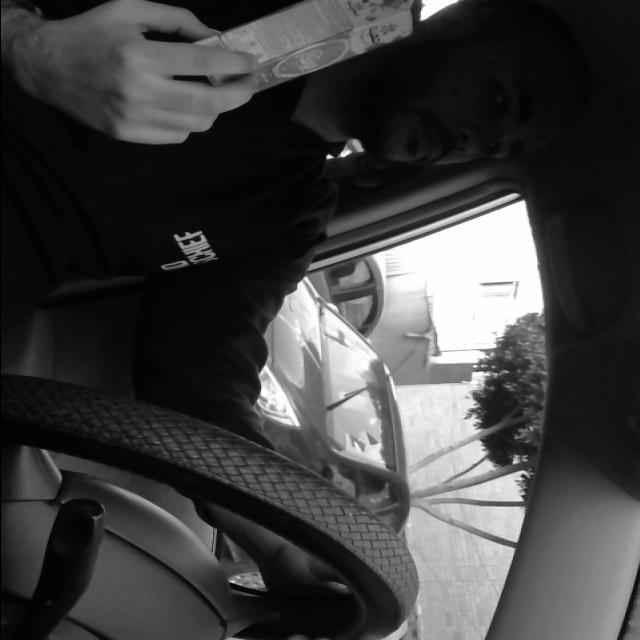drinking: (188, 0, 437, 99)
